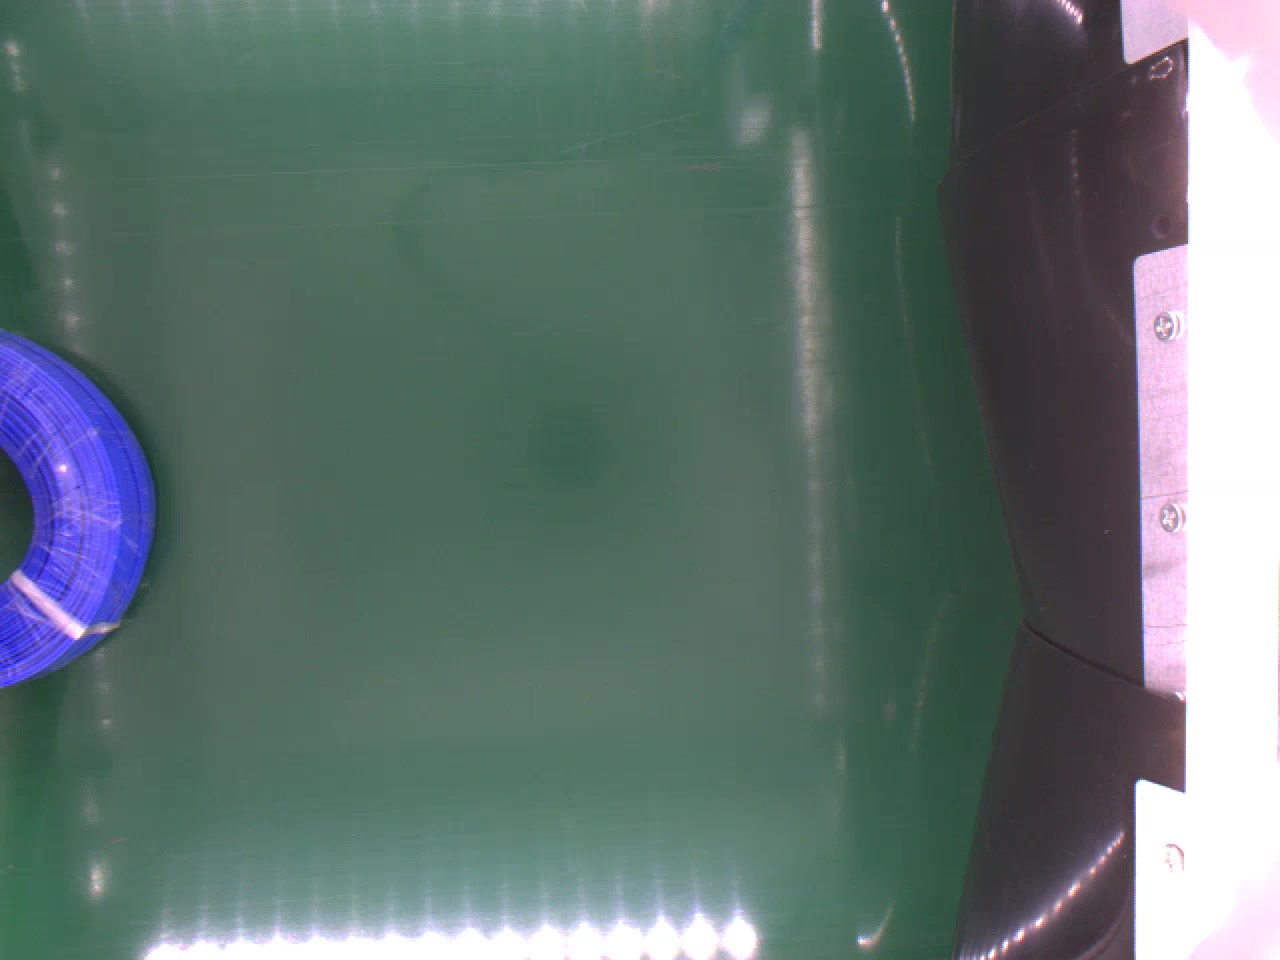blue: (0, 333, 161, 680)
